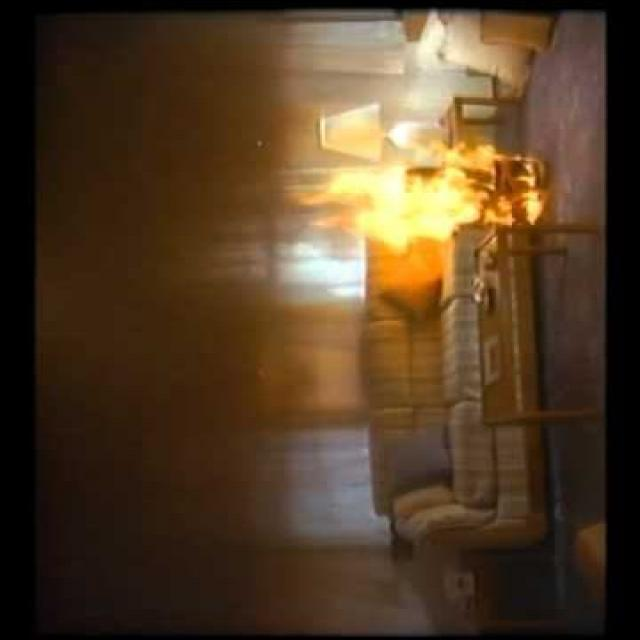Fire: (284, 137, 550, 251)
